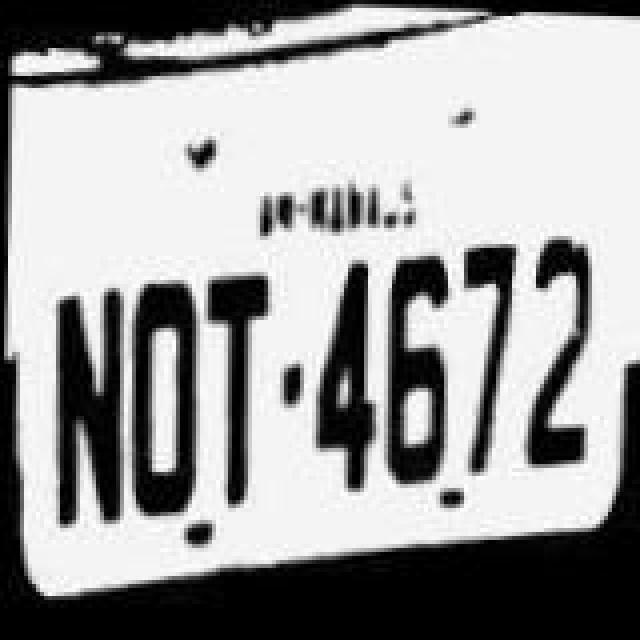2: (512, 220, 600, 484)
4: (306, 236, 386, 496)
6: (366, 238, 454, 494)
7: (440, 224, 524, 488)
N: (34, 268, 130, 532)
O: (110, 266, 206, 522)
T: (186, 258, 282, 514)
